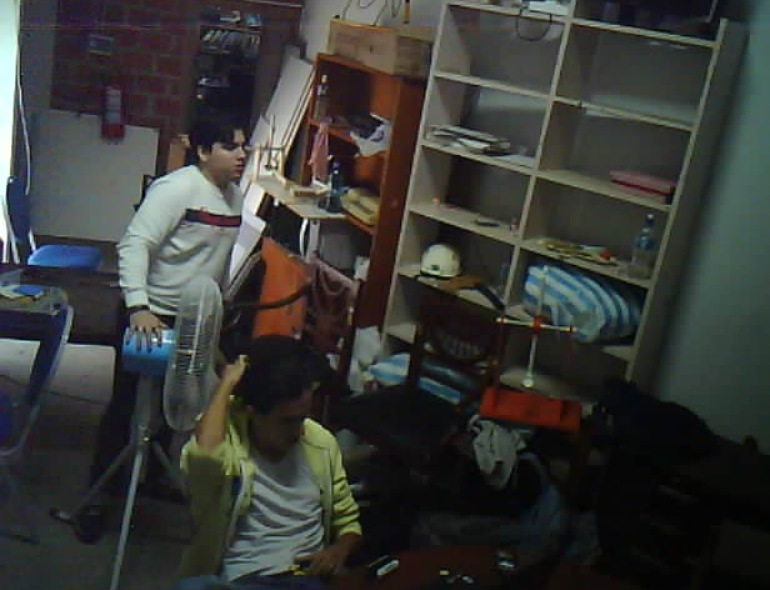person: (60, 94, 265, 573), (162, 334, 382, 590)
